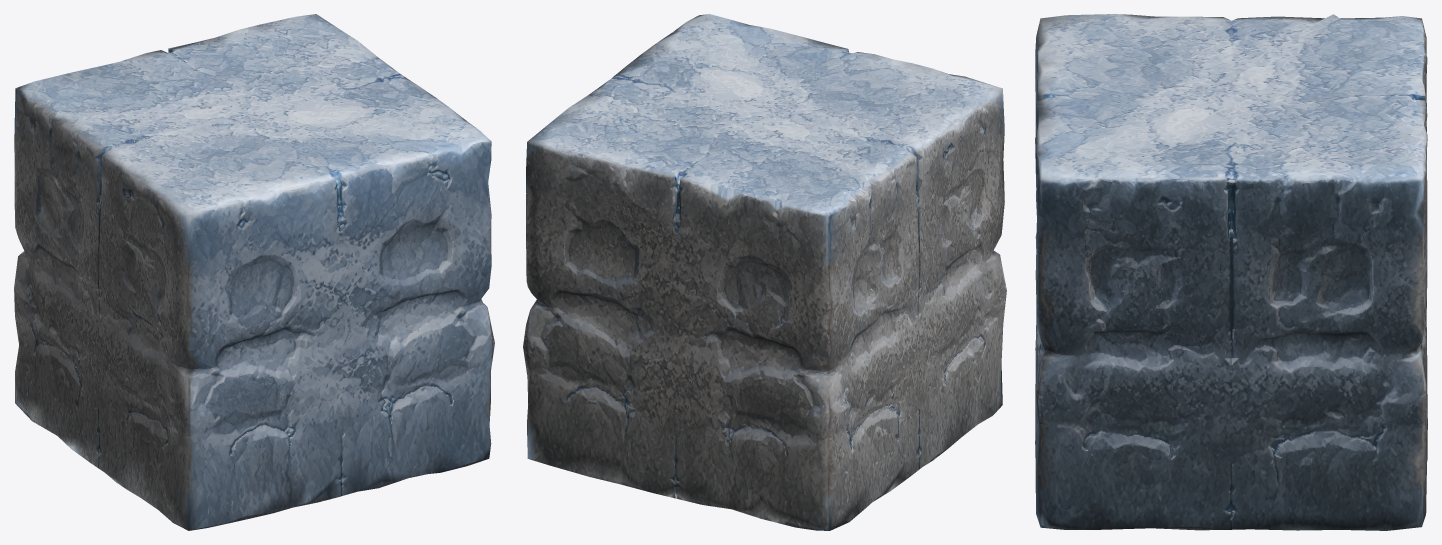
Rendered from Tile_Ice_Floor.fbx.
The picture shows the model from 3 angles, left to right: view 1: azimuth 30°, elevation 25°; view 2: azimuth 150°, elevation 25°; view 3: azimuth 270°, elevation 25°; orthographic projection. The views are drawn at different scales.
Parts seen in each view (by area): view 1: texture_mapping; view 2: texture_mapping; view 3: texture_mapping.
Boxes of the visible parts, x1=… form: texture_mapping: x1=14, y1=14, x2=494, y2=530; texture_mapping: x1=523, y1=14, x2=1006, y2=530; texture_mapping: x1=1035, y1=14, x2=1427, y2=530.
Size of the model in its own units: 1 by 0.9977 by 0.9988.
Materials: 1 (1 with a texture image).
